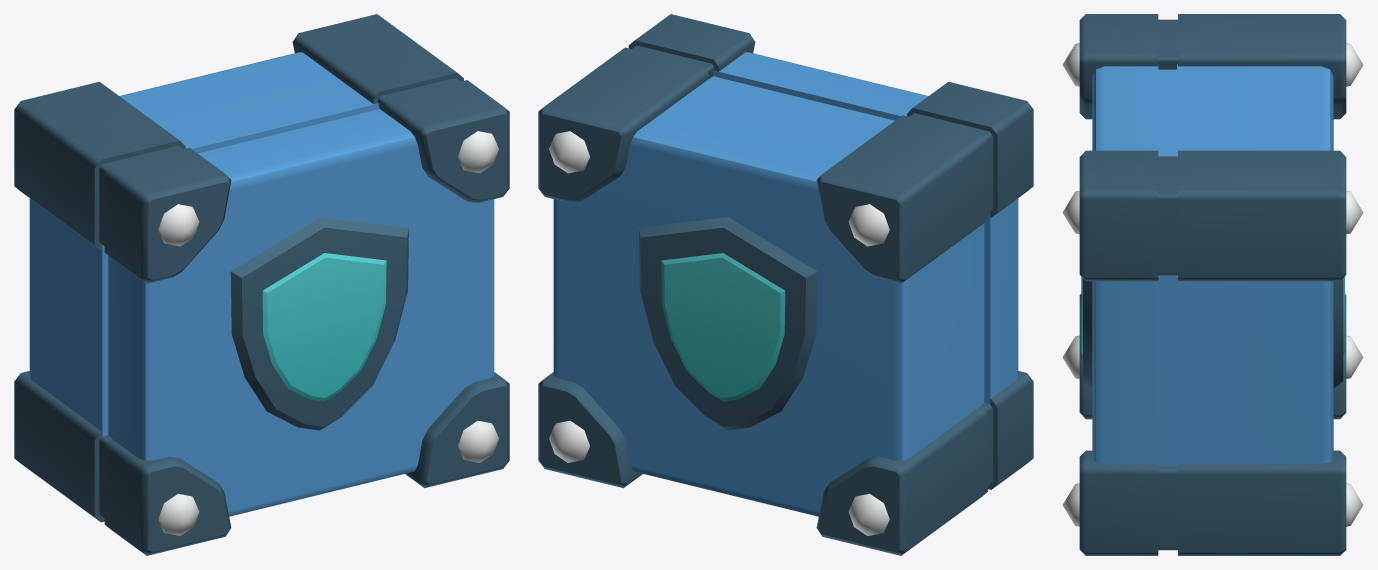
The model's file is Sheild_pick_up.fbx.
3 views of the same model, side by side, from view 1: azimuth 30°, elevation 25°; view 2: azimuth 150°, elevation 25°; view 3: azimuth 270°, elevation 25° (orthographic).
Parts seen in each view (by area): view 1: Sheild_Pick_up; view 2: Sheild_Pick_up; view 3: Sheild_Pick_up.
Part boxes in pixels (box(x1,y1,x2,y2)): Sheild_Pick_up: box(14, 14, 509, 555); Sheild_Pick_up: box(538, 14, 1033, 555); Sheild_Pick_up: box(1062, 14, 1363, 555).
Bounding box in the file's own units: 9.48 × 8.9 × 6.63.
